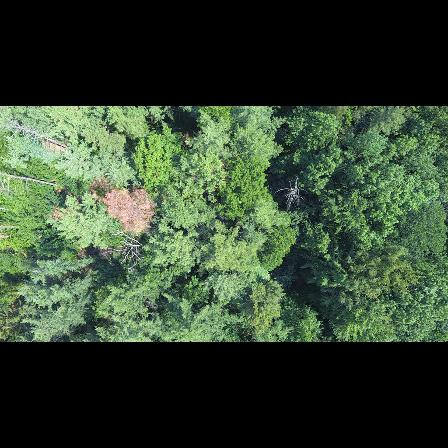Dead: (102, 229, 147, 270), (273, 174, 308, 214)
